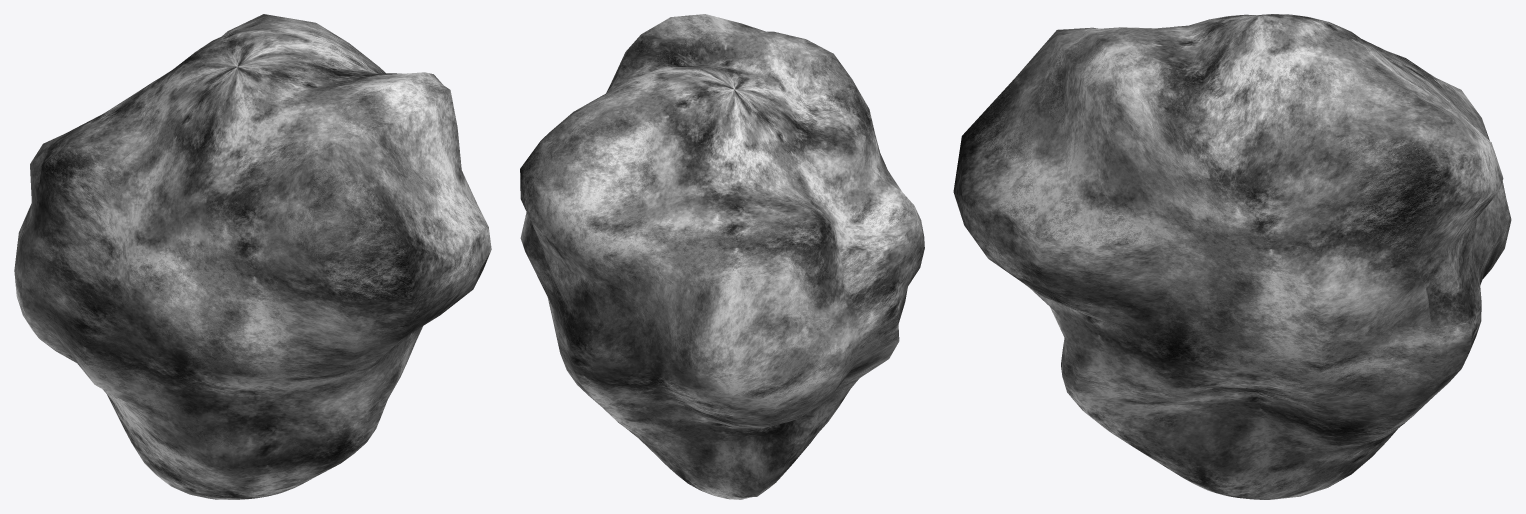
Rendered from Asteroid01e.fbx.
3 views of the same model, side by side, from view 1: azimuth 30°, elevation 25°; view 2: azimuth 150°, elevation 25°; view 3: azimuth 270°, elevation 25° (orthographic). The views are drawn at different scales.
Visible parts, largest first — view 1: Asteroid01e; view 2: Asteroid01e; view 3: Asteroid01e.
Boxes of the visible parts, x1,y1,x2,y2 form: Asteroid01e: (14,14,491,499); Asteroid01e: (520,14,924,499); Asteroid01e: (953,14,1511,499).
Bounding box in the file's own units: 2335 × 2613 × 2677.
